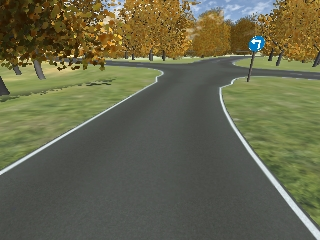left: (250, 37, 265, 52)
